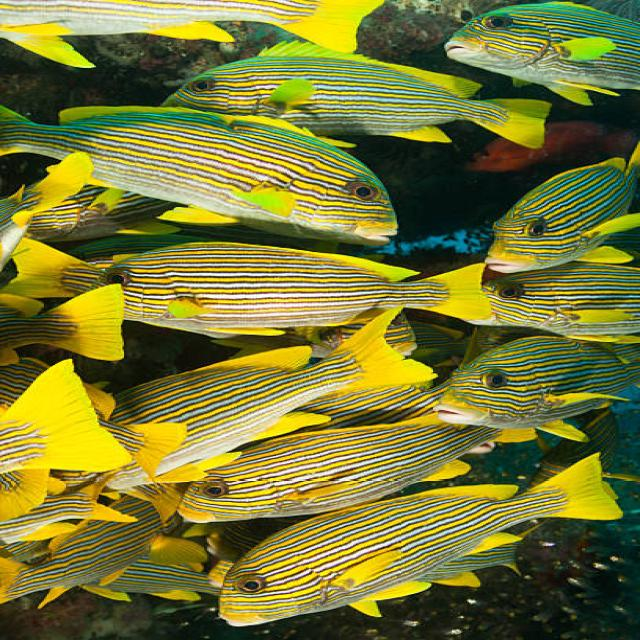RibbonedSweetlips: (216, 450, 623, 627), (108, 306, 440, 489), (0, 104, 398, 247), (159, 40, 551, 150), (178, 413, 538, 524), (83, 240, 493, 336), (432, 335, 640, 442), (482, 142, 640, 273), (443, 1, 640, 106), (466, 262, 640, 343)
